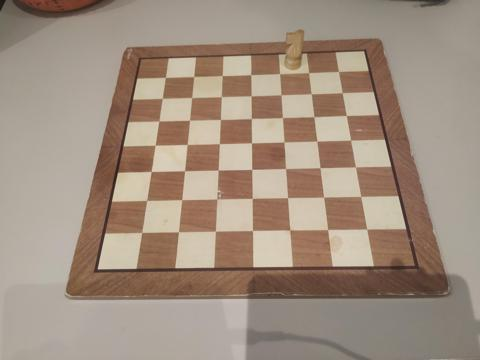xcorner: (138, 229, 148, 239), (175, 229, 185, 239), (212, 228, 222, 238), (287, 227, 297, 237), (325, 226, 335, 236), (363, 225, 373, 235), (143, 197, 153, 207), (178, 196, 188, 206), (213, 196, 223, 206), (249, 195, 259, 205), (285, 194, 295, 204), (357, 193, 367, 203), (147, 168, 157, 178), (214, 166, 224, 176), (248, 165, 258, 175), (283, 165, 293, 175), (317, 164, 327, 174), (352, 163, 362, 173), (151, 141, 161, 151), (183, 140, 193, 150), (215, 139, 225, 149), (248, 138, 258, 148), (314, 137, 324, 147), (347, 136, 357, 146), (154, 116, 164, 126), (185, 115, 195, 125), (247, 114, 257, 124), (279, 113, 289, 123), (342, 111, 352, 121), (187, 93, 197, 103), (217, 92, 227, 102), (247, 91, 257, 101), (277, 90, 287, 100), (308, 89, 318, 99), (338, 88, 348, 98), (247, 70, 257, 80), (276, 69, 286, 79), (305, 68, 315, 78), (334, 67, 344, 77), (250, 227, 259, 237), (321, 194, 331, 203), (181, 167, 190, 177), (281, 138, 291, 147), (216, 115, 226, 124), (311, 112, 320, 122), (189, 72, 199, 81), (218, 71, 228, 80), (158, 94, 167, 103), (161, 73, 170, 82)
